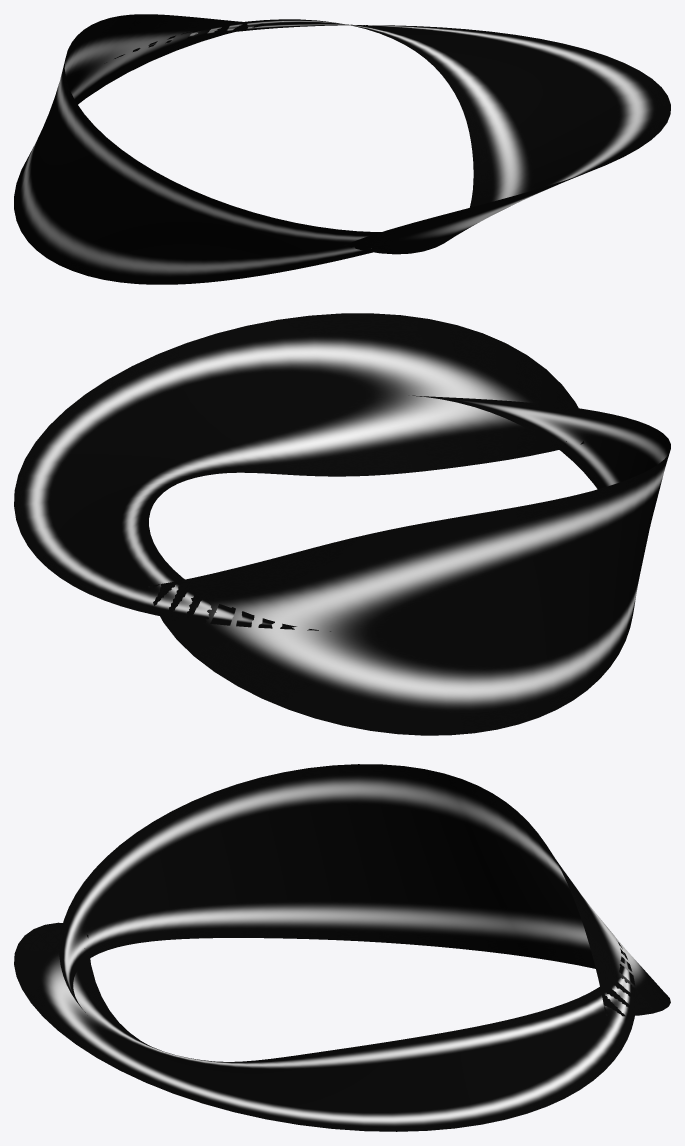
File: 俄罗斯方块爱心旋转面片.FBX
3 renders of one model, top to bottom at view 1: azimuth 30°, elevation 25°; view 2: azimuth 150°, elevation 25°; view 3: azimuth 270°, elevation 25°, orthographic. The views are drawn at different scales.
Visible parts, largest first — view 1: 俄罗斯方块爱心旋转面片; view 2: 俄罗斯方块爱心旋转面片; view 3: 俄罗斯方块爱心旋转面片.
Boxes of the visible parts, box(x1,y1,x2,y2) form: 俄罗斯方块爱心旋转面片: box(14, 14, 670, 284); 俄罗斯方块爱心旋转面片: box(14, 313, 670, 735); 俄罗斯方块爱心旋转面片: box(14, 764, 670, 1131).
Size of the model in its own units: 2.37 by 0.7535 by 2.35.
